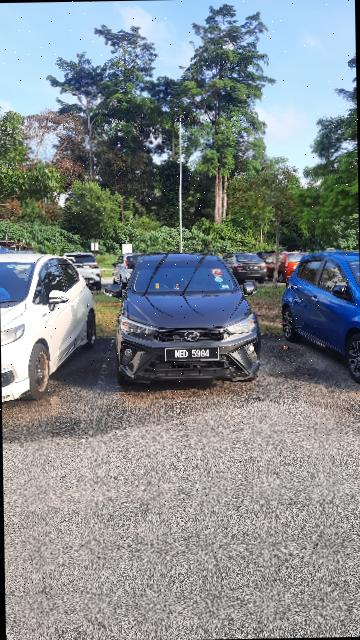License_Plate: (167, 345, 221, 365)
car: (99, 249, 263, 390), (1, 250, 98, 405), (280, 247, 360, 379)
